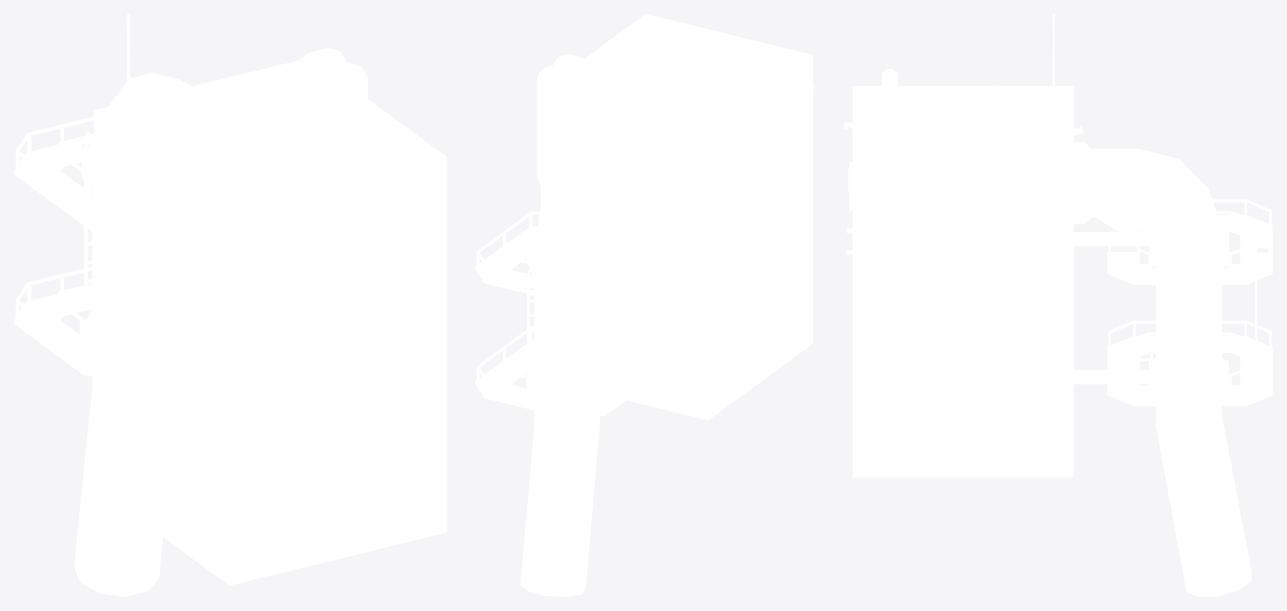
Rendered from water-station-small.glb.
The picture shows the model from 3 angles, left to right: view 1: azimuth 30°, elevation 25°; view 2: azimuth 150°, elevation 25°; view 3: azimuth 270°, elevation 25°; orthographic projection. The views are drawn at different scales.
Visible parts, largest first — view 1: water-station-small; view 2: water-station-small; view 3: water-station-small.
Boxes of the visible parts, left/top/right/bottom form: water-station-small: left=14, top=14, right=446, bottom=596; water-station-small: left=475, top=14, right=814, bottom=596; water-station-small: left=843, top=14, right=1272, bottom=596.
Size of the model in its own units: 10.72 by 26.41 by 19.13.
1 material, 1 textured.
